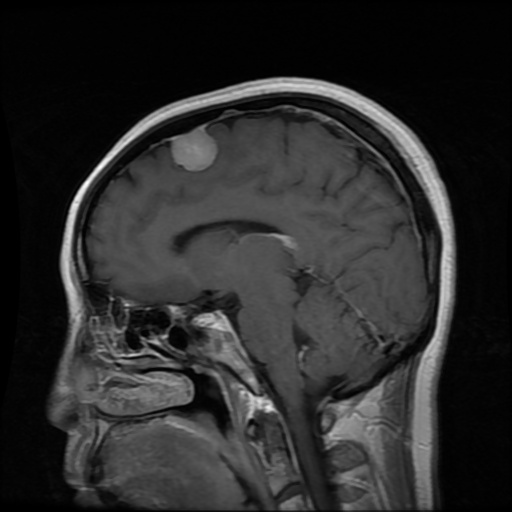meningioma: (170, 124, 217, 171)
